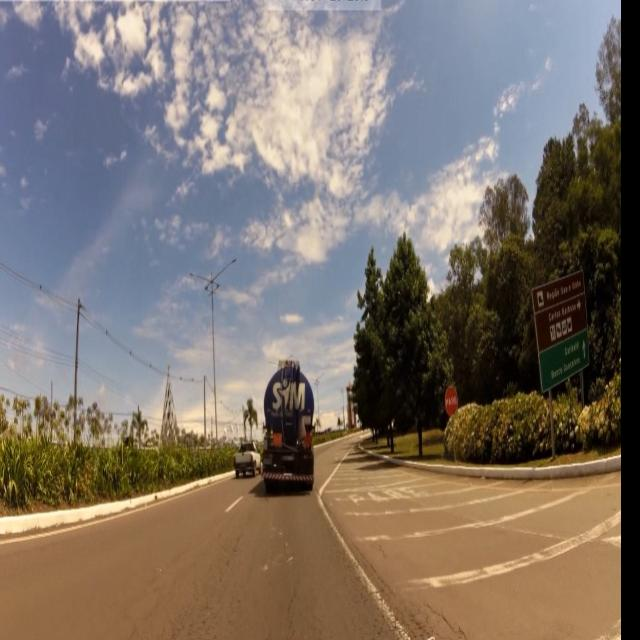R-1: (443, 386, 460, 421)
